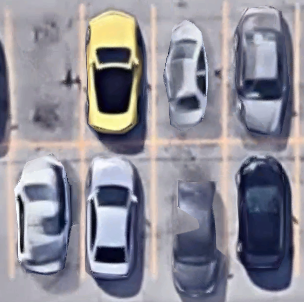Occupied: (81, 3, 153, 142), (224, 3, 297, 140), (153, 4, 225, 142), (225, 140, 297, 276), (10, 143, 83, 276), (153, 142, 225, 276), (83, 143, 154, 277)
Vacant: (10, 3, 83, 144)
